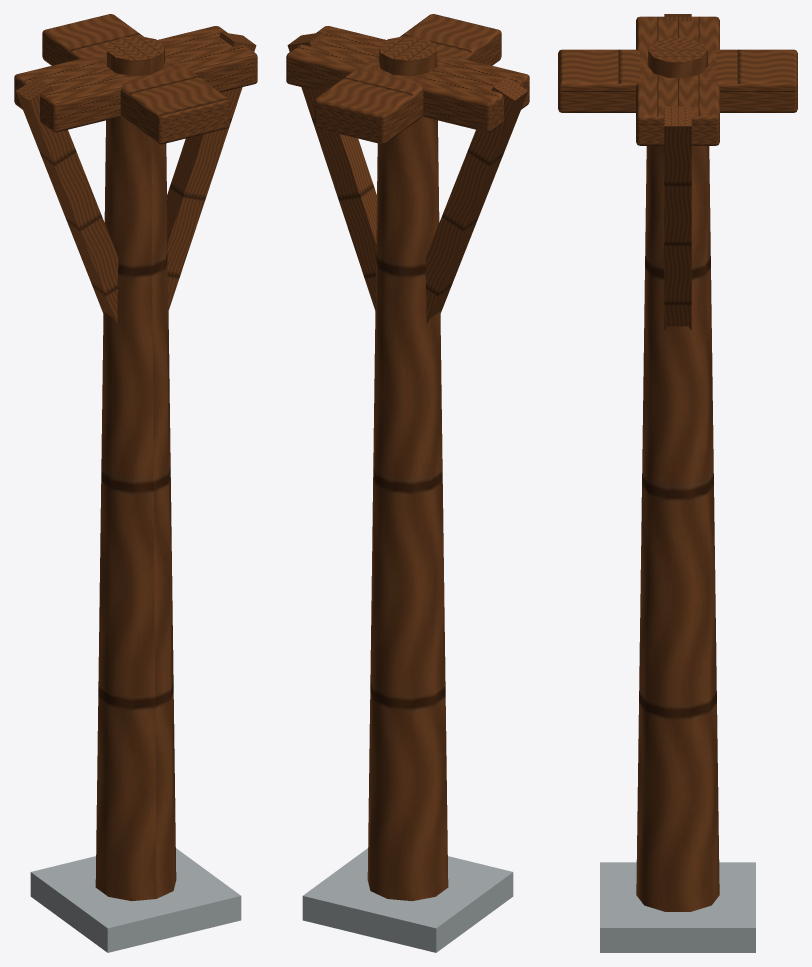
File: prehistoric-survivor-settlement-totem-cross-post-ce3cfab0__23191.glb
3 views of the same model, side by side, from view 1: azimuth 30°, elevation 25°; view 2: azimuth 150°, elevation 25°; view 3: azimuth 270°, elevation 25° (orthographic).
Parts seen in each view (by area): view 1: totem-cross-post; view 2: totem-cross-post; view 3: totem-cross-post.
Part boxes in pixels (<box>): totem-cross-post: <box>14,14,257,952</box>; totem-cross-post: <box>286,14,529,952</box>; totem-cross-post: <box>558,14,797,952</box>.
Bounding box in the file's own units: 0.775 × 2.8 × 0.7001.
2 materials, 1 textured.
